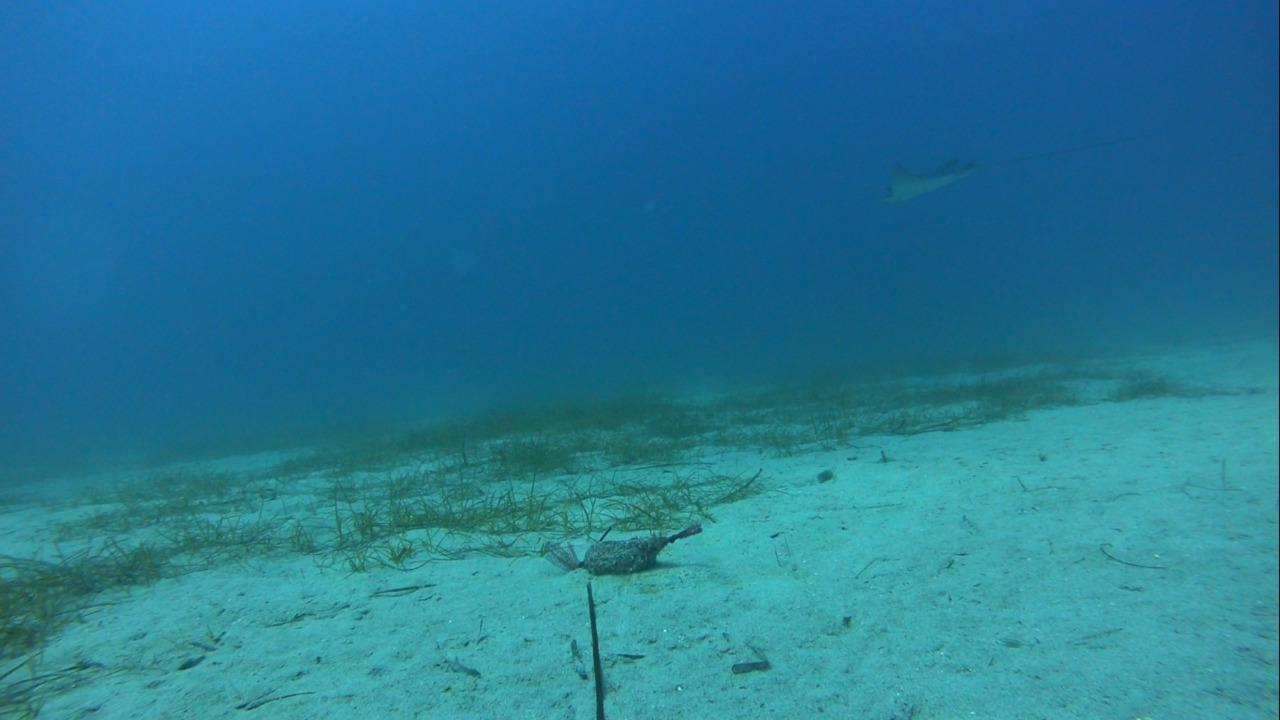myliobatis: (870, 131, 1140, 211)
